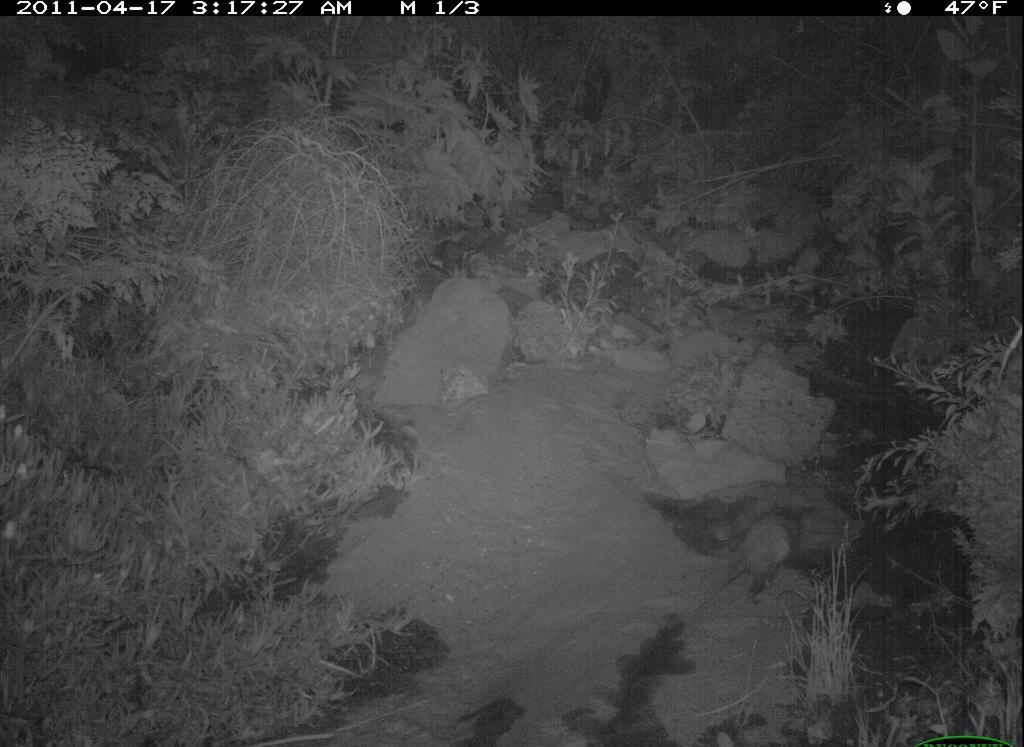opossum: (690, 491, 808, 629)
